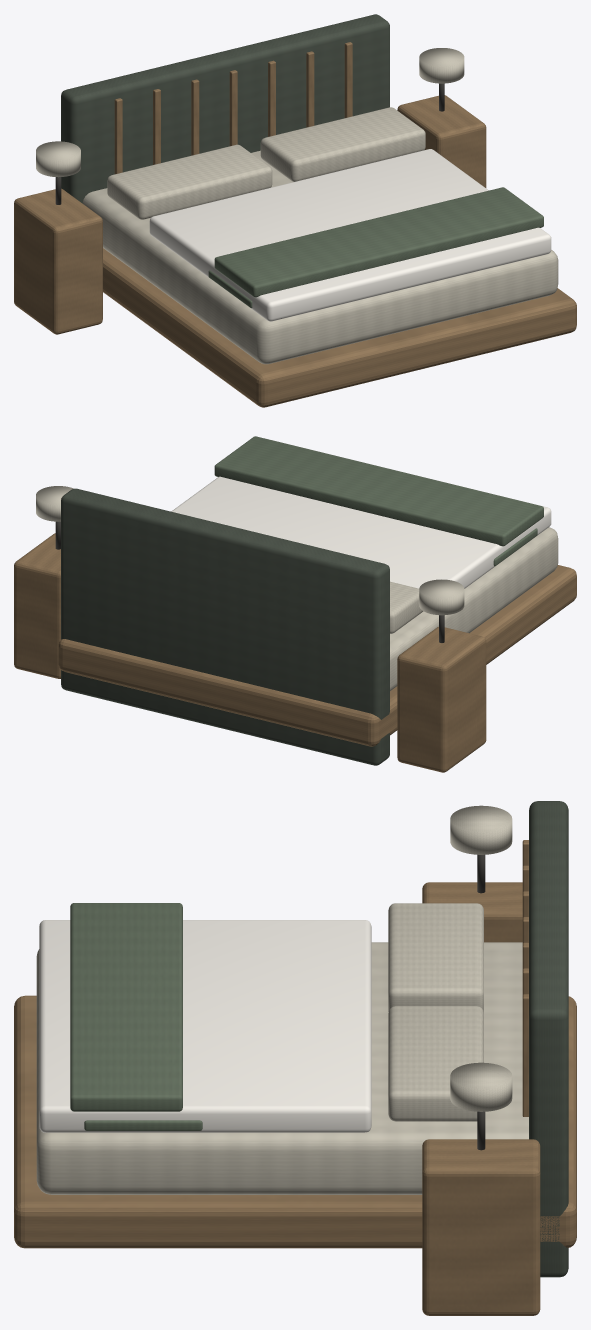
File: double-bed.glb
The picture shows the model from 3 angles, top to bottom: view 1: azimuth 30°, elevation 25°; view 2: azimuth 150°, elevation 25°; view 3: azimuth 270°, elevation 25°; orthographic projection. The views are drawn at different scales.
Visible parts, largest first — view 1: CANONICAL headboard, ACCENT soft duvet, ACCENT mattress, CANONICAL bed frame, ACCENT folded sage blanket, ACCENT bedside table, ACCENT pillow, ACCENT pillow.001, ACCENT bedside table.001, ACCENT bedside lamp shade.001, ACCENT bedside lamp shade, ACCENT oak headboard slat.002 (+6 smaller); view 2: CANONICAL headboard, CANONICAL bed frame, ACCENT soft duvet, ACCENT folded sage blanket, ACCENT bedside table, ACCENT mattress, ACCENT bedside table.001, ACCENT bedside lamp shade, ACCENT pillow, ACCENT bedside lamp shade.001; view 3: ACCENT soft duvet, ACCENT mattress, CANONICAL bed frame, ACCENT folded sage blanket, ACCENT bedside table.001, CANONICAL headboard, ACCENT pillow, ACCENT pillow.001, ACCENT bedside table, ACCENT bedside lamp shade, ACCENT bedside lamp shade.001, ACCENT runner (+1 smaller).
Boxes of the visible parts, x1,y1,x2,y2 form: CANONICAL headboard: (61,14,389,203); ACCENT soft duvet: (149,149,551,321); ACCENT mattress: (82,150,558,364); CANONICAL bed frame: (103,248,576,407); ACCENT folded sage blanket: (214,187,543,297); ACCENT bedside table: (14,188,102,334); ACCENT pillow: (107,144,272,219); ACCENT pillow.001: (260,107,425,181); ACCENT bedside table.001: (397,95,486,187); ACCENT bedside lamp shade.001: (419,48,464,83); ACCENT bedside lamp shade: (36,141,80,177); ACCENT oak headboard slat.002: (191,79,199,155); CANONICAL headboard: (61,488,389,765); CANONICAL bed frame: (58,565,576,746); ACCENT soft duvet: (171,440,551,588); ACCENT folded sage blanket: (214,436,543,546); ACCENT bedside table: (397,627,486,772); ACCENT mattress: (390,527,558,690); ACCENT bedside table.001: (14,533,60,678); ACCENT bedside lamp shade: (419,579,464,615); ACCENT pillow: (390,581,423,633); ACCENT bedside lamp shade.001: (36,486,73,521); ACCENT soft duvet: (39,920,371,1132); ACCENT mattress: (36,942,528,1194); CANONICAL bed frame: (14,995,576,1248); ACCENT folded sage blanket: (70,903,182,1111); ACCENT bedside table.001: (422,1139,540,1315); CANONICAL headboard: (529,801,568,1277); ACCENT pillow: (388,903,483,1011); ACCENT pillow.001: (388,1006,483,1121); ACCENT bedside table: (422,882,522,942); ACCENT bedside lamp shade: (450,805,512,854); ACCENT bedside lamp shade.001: (450,1062,512,1111); ACCENT runner: (84,1120,202,1130).
Bounding box in the file's own units: 2.44 × 1.05 × 2.
Materials: 6 (4 with a texture image).
